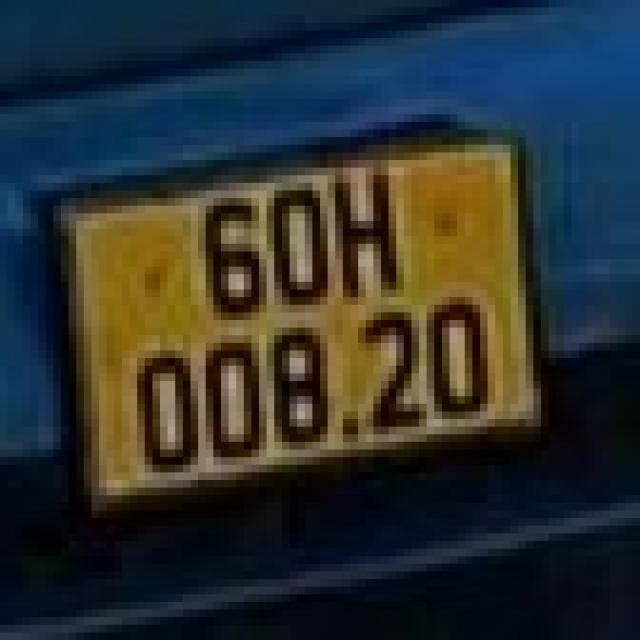0: (136, 351, 202, 473), (428, 298, 492, 422), (271, 186, 332, 306), (204, 339, 260, 459)
2: (362, 309, 422, 429)
6: (205, 199, 261, 319)
8: (271, 328, 327, 448)
H: (334, 171, 400, 299)
